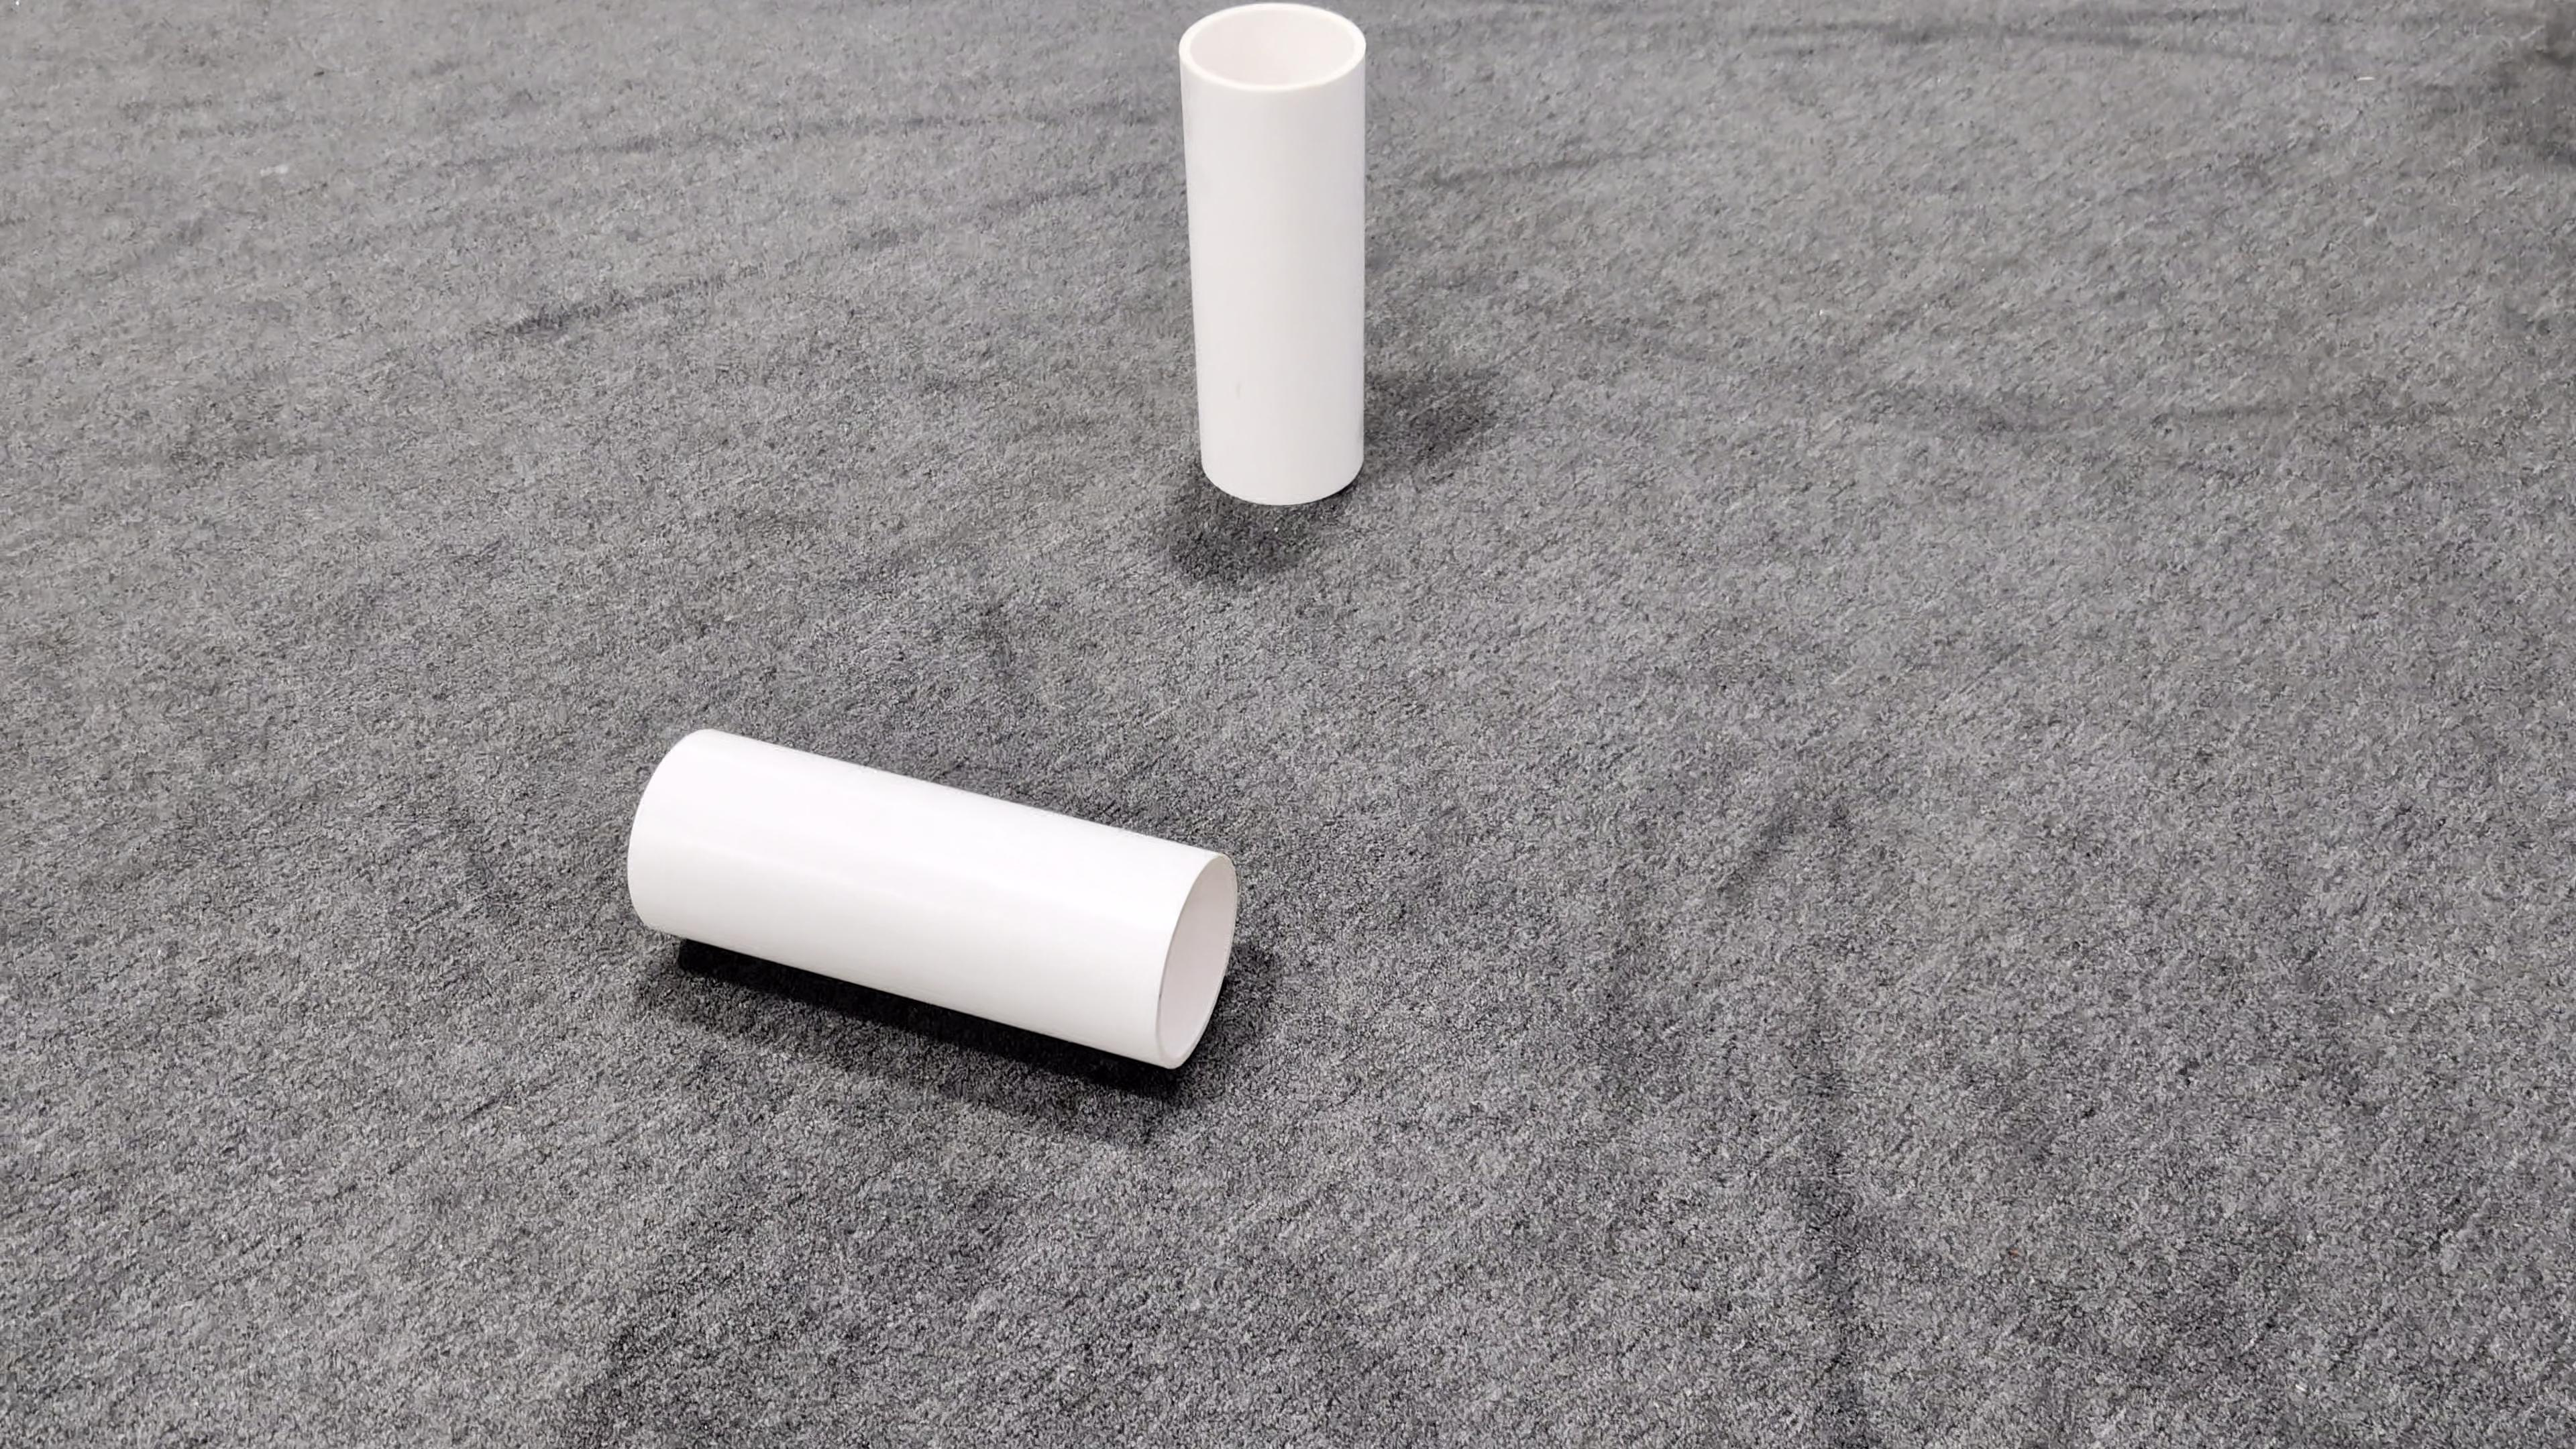coral: (630, 731, 1238, 1070), (1180, 2, 1366, 502)
